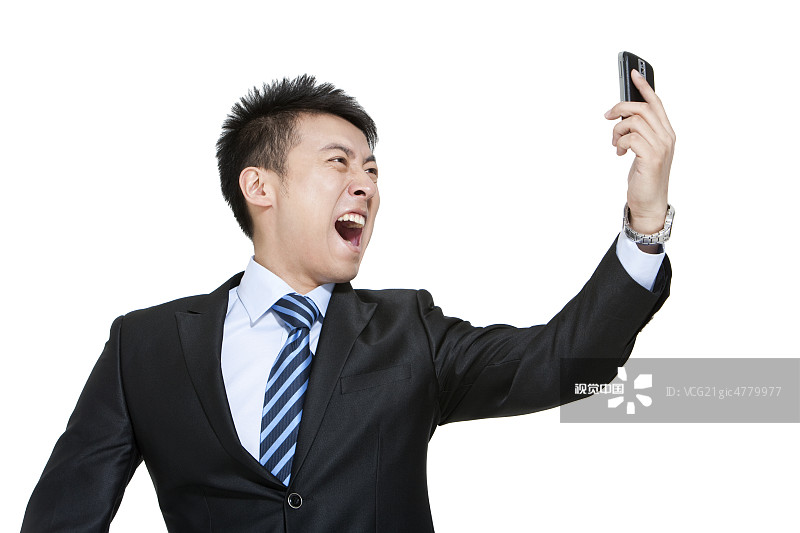taking photos: (592, 55, 705, 235)
